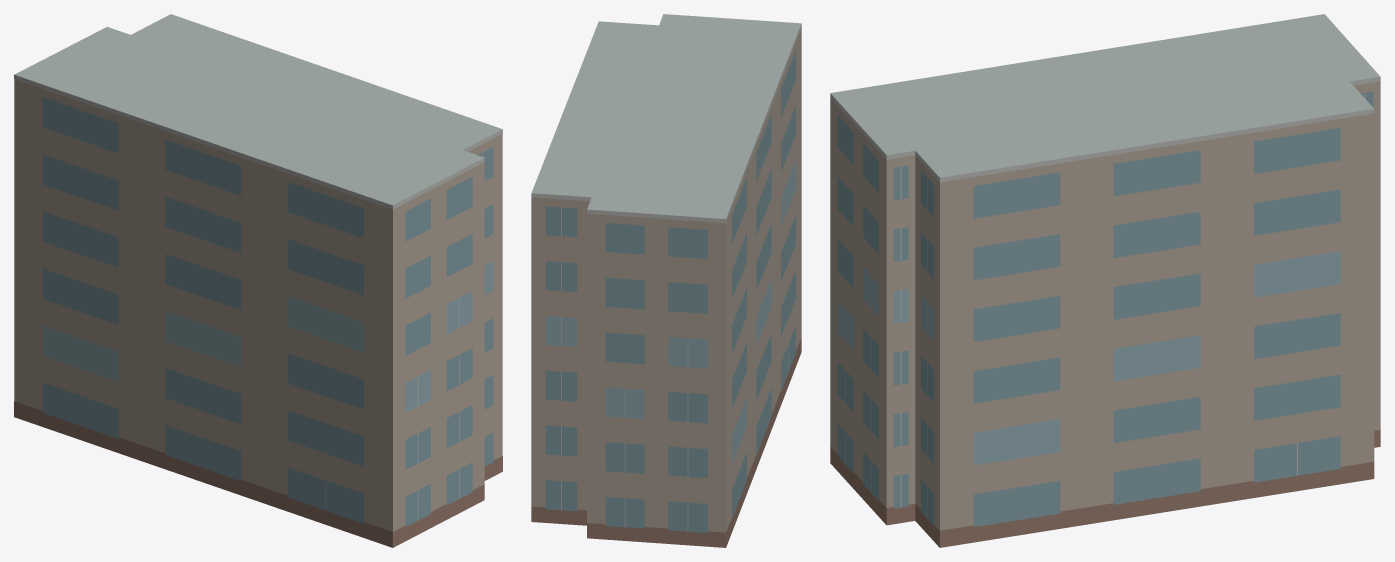
File: survey-upis-32976190.glb
The picture shows the model from 3 angles, left to right: view 1: azimuth 30°, elevation 25°; view 2: azimuth 150°, elevation 25°; view 3: azimuth 270°, elevation 25°; orthographic projection. The views are drawn at different scales.
Parts seen in each view (by area): view 1: survey-upis-32976190.tmp; view 2: survey-upis-32976190.tmp; view 3: survey-upis-32976190.tmp.
Boxes of the visible parts, <box> form: survey-upis-32976190.tmp: <box>14,14,502,547</box>; survey-upis-32976190.tmp: <box>531,14,801,547</box>; survey-upis-32976190.tmp: <box>830,14,1380,547</box>.
Bounding box in the file's own units: 18.33 × 19.3 × 26.02.
